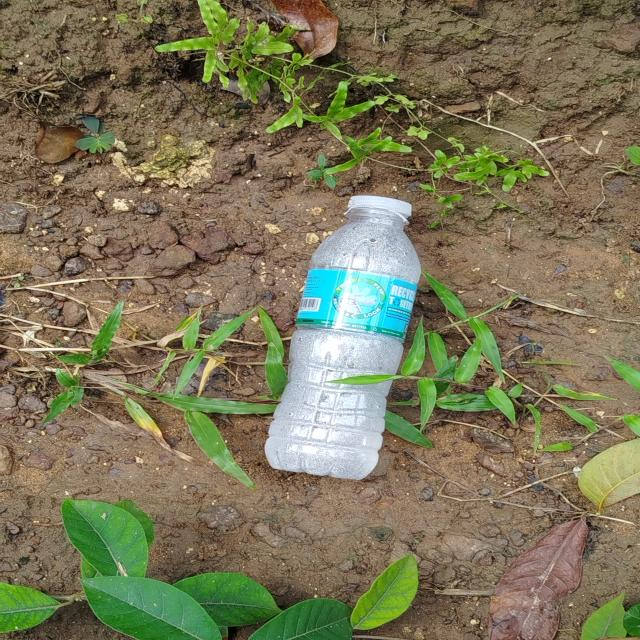plastic: (260, 181, 426, 490)
